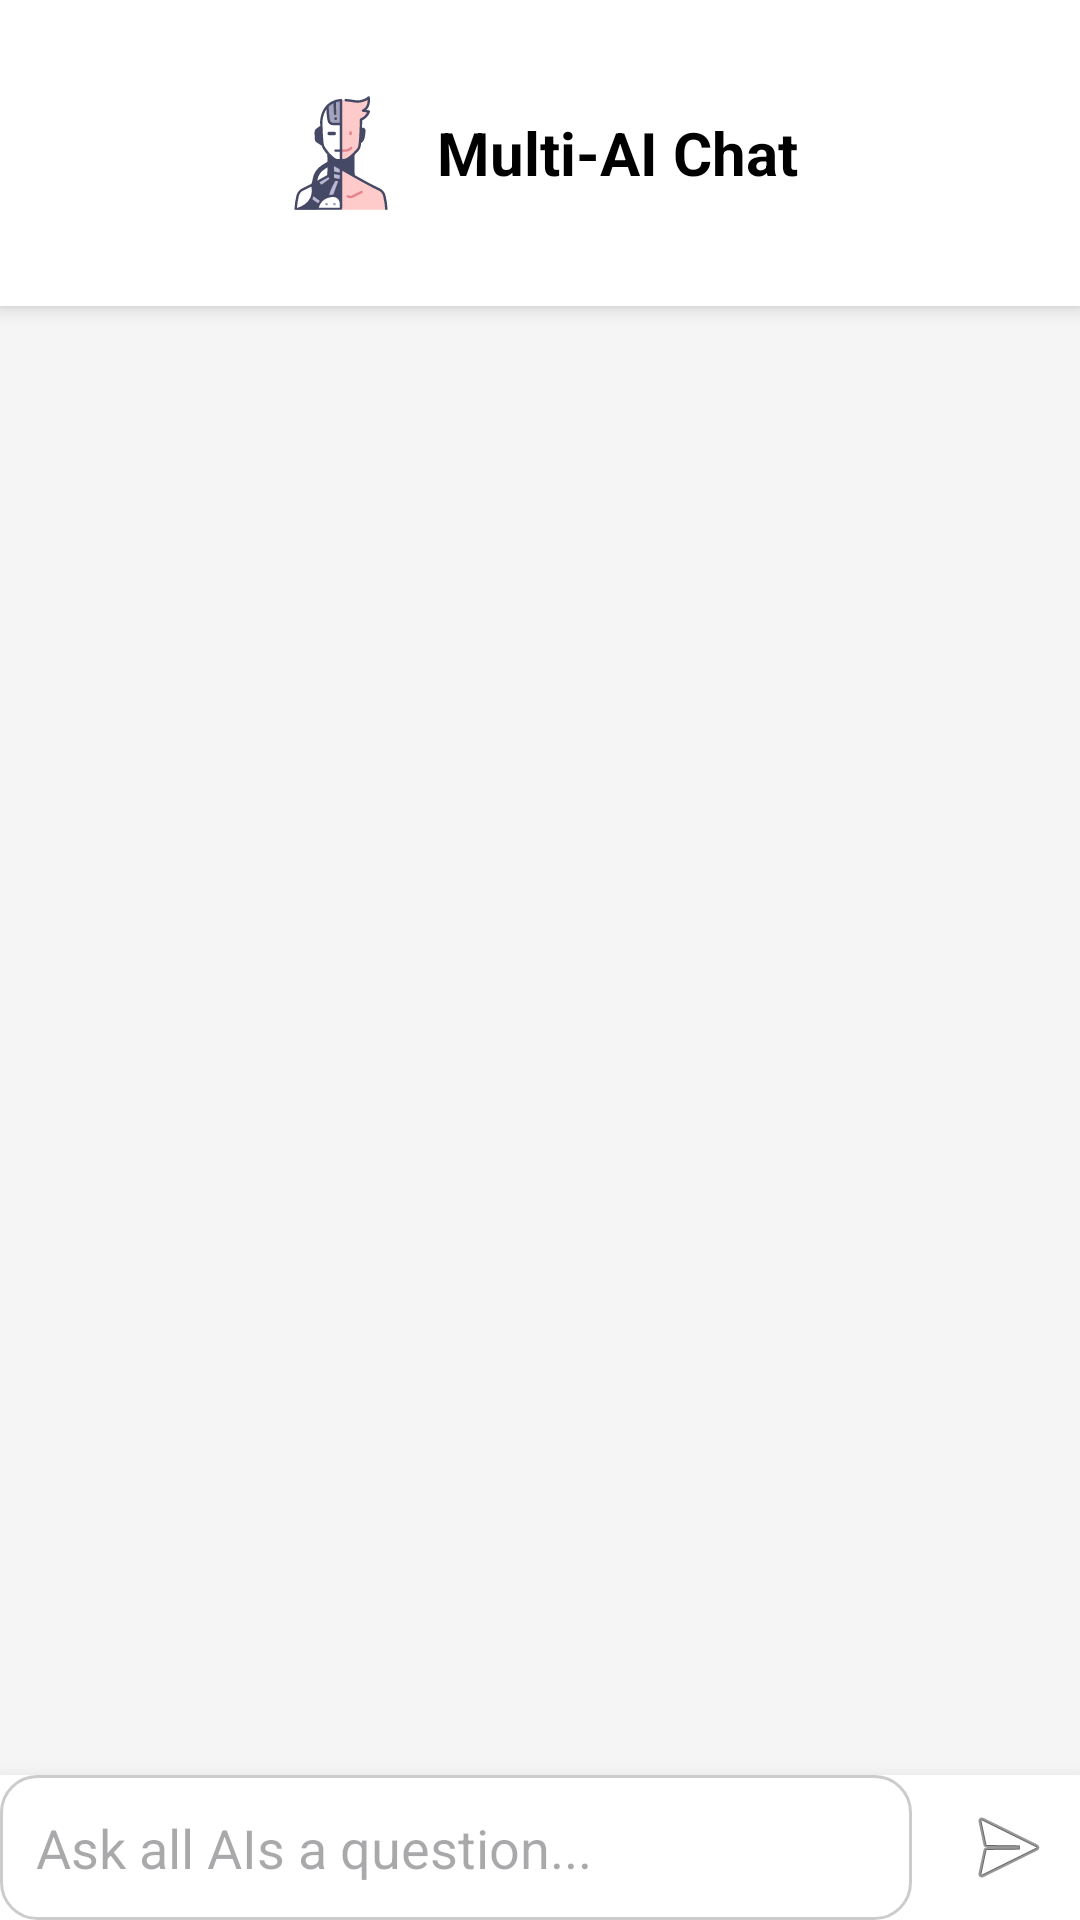

Named icons in this screenshot (1080 × 1920) and their bounding boxes, (x1, y1, x2, y2):
Send: (978, 1817, 1040, 1878)
